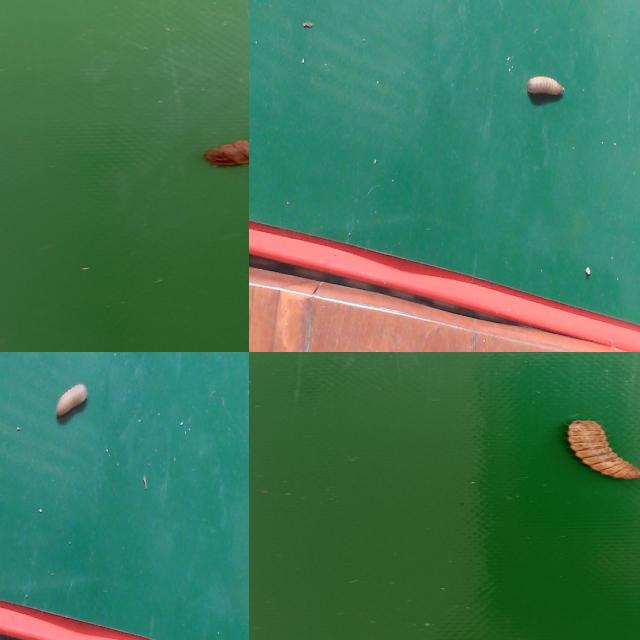Maggot: (563, 421, 640, 483), (53, 383, 90, 426), (203, 139, 249, 170), (526, 74, 565, 108)
